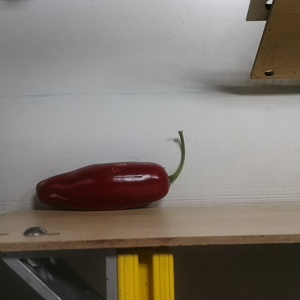Cut Point: (150, 162, 178, 200)
